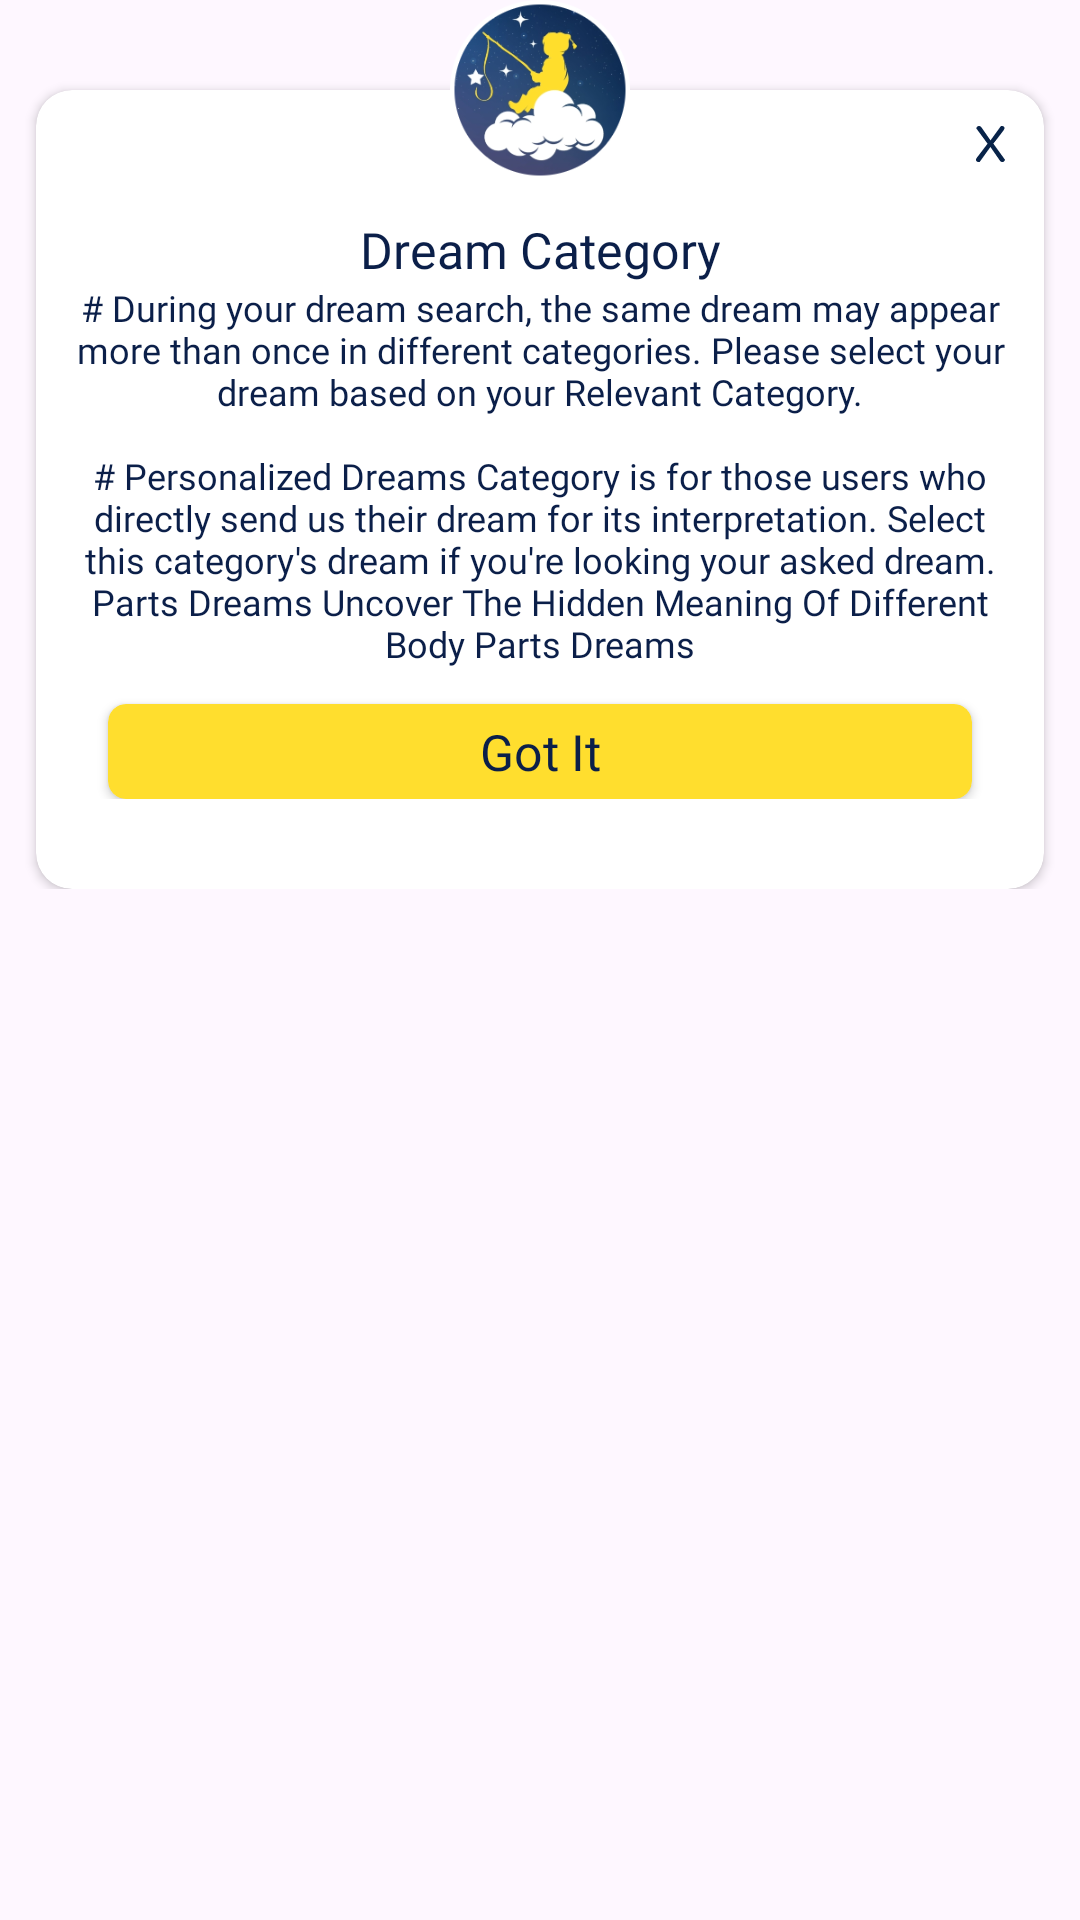

Icon click points for this 1080 x 1920 phone screenshot, format (x=x, y=y):
cross: (x=990, y=144)
